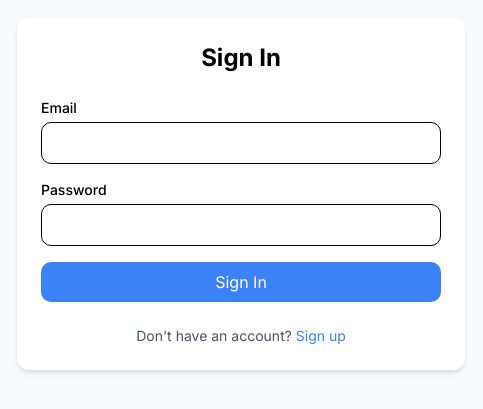
it: SignInPage › displays error message on failed sign in
Step 1. Type "test@example.com" into the field labelled "Email" → point(241, 143), box [41,122,441,164]
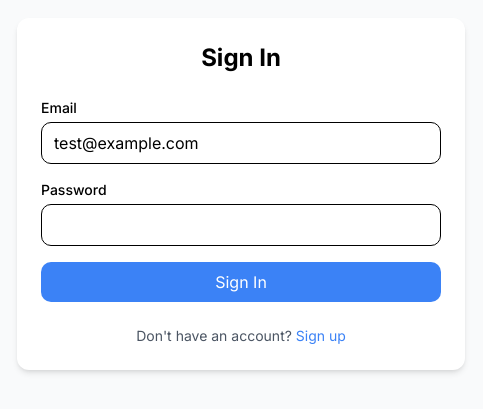
Step 2. Type "wrongpassword" into the password field labelled "Password" → point(241, 225), box [41,204,441,246]
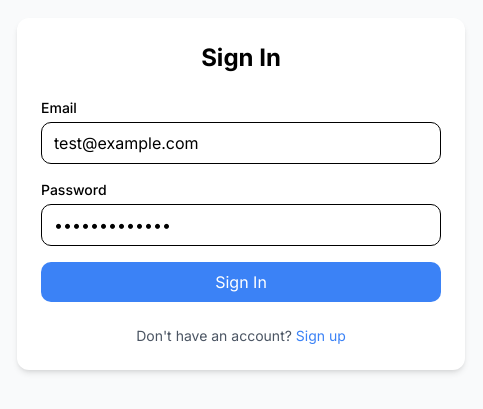
Step 3. Submit the form from the button "Sign In", box [41,262,441,302]
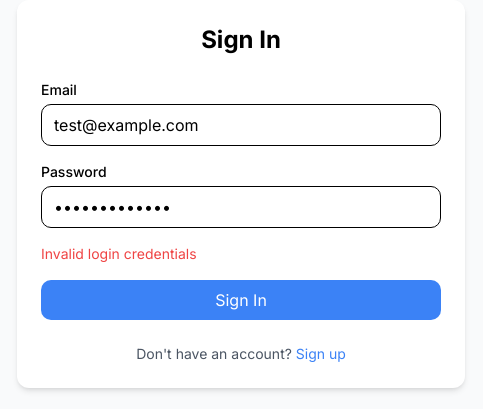
Result: the text "Invalid login credentials" is shown at [41,245,197,262]
